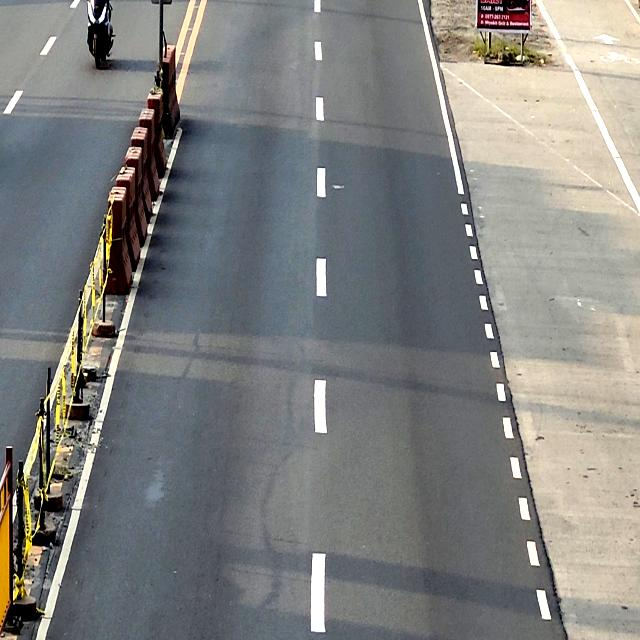Motorcycle: (87, 0, 113, 71)
